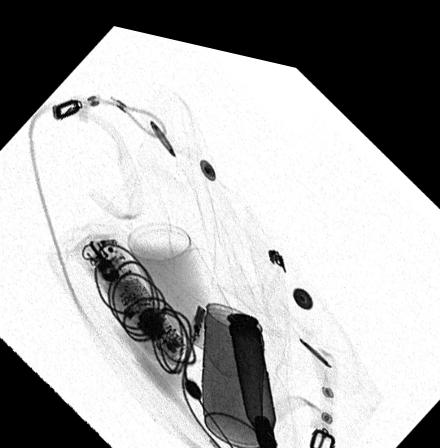Bullet: (225, 301, 279, 448)
